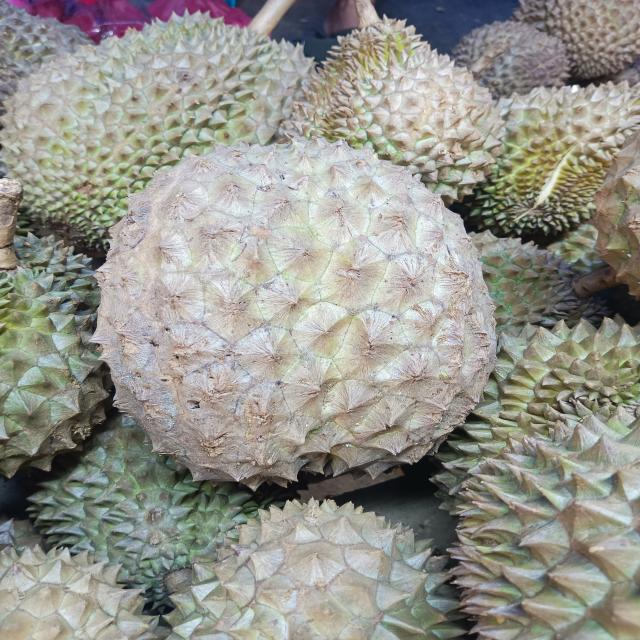defective: (471, 81, 640, 235)
mature: (94, 105, 488, 489), (0, 12, 312, 251), (28, 414, 268, 608), (160, 500, 471, 640), (281, 14, 505, 204), (454, 416, 640, 640), (433, 316, 640, 514), (0, 179, 111, 477), (0, 546, 158, 640), (514, 0, 640, 79), (452, 21, 569, 97)
